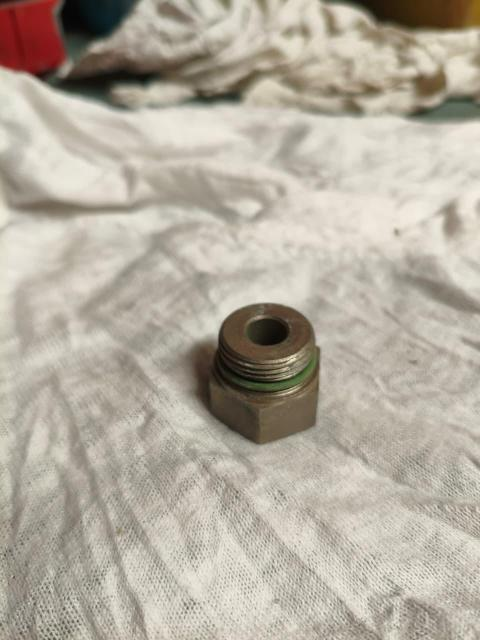Metal: (203, 300, 330, 433)
